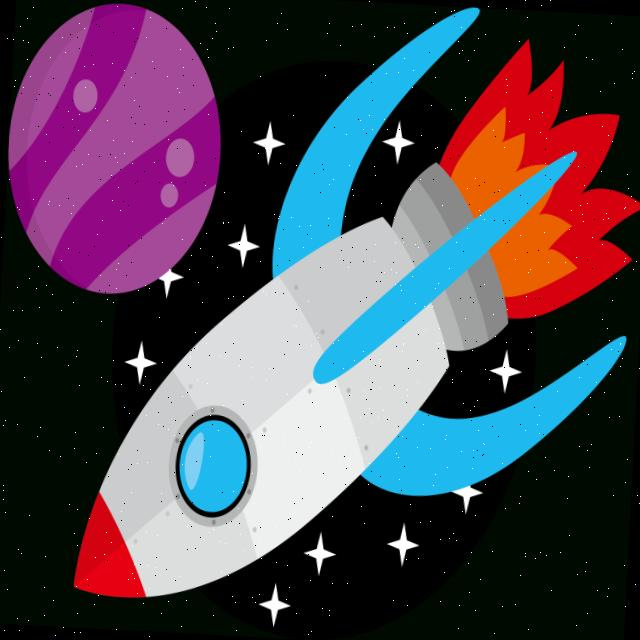rocket: (61, 9, 636, 615)
